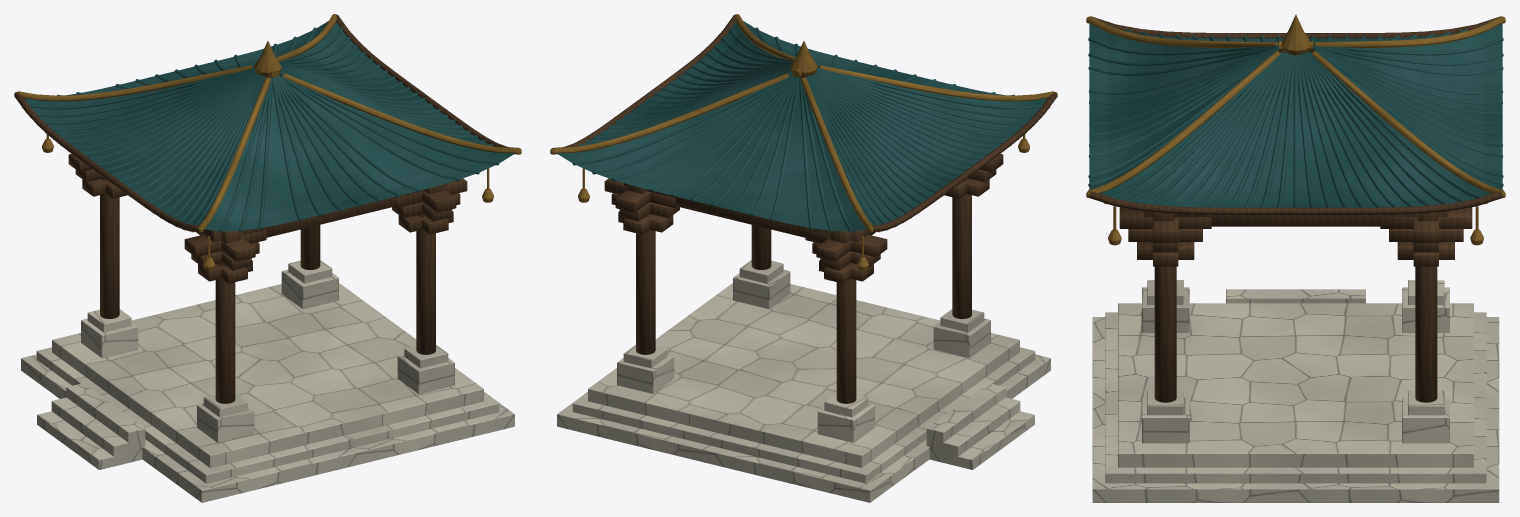
Rendered from a01_pavilion.fbx.
3 renders of one model, left to right at view 1: azimuth 30°, elevation 25°; view 2: azimuth 150°, elevation 25°; view 3: azimuth 270°, elevation 25°, orthographic. The views are drawn at different scales.
Visible parts, largest first — view 1: a01_pavilion.003; view 2: a01_pavilion.003; view 3: a01_pavilion.003.
Boxes of the visible parts, x1=… form: a01_pavilion.003: x1=14, y1=14, x2=521, y2=502; a01_pavilion.003: x1=550, y1=14, x2=1057, y2=502; a01_pavilion.003: x1=1086, y1=14, x2=1505, y2=502.
Bounding box in the file's own units: 52754 × 59177 × 56000.
